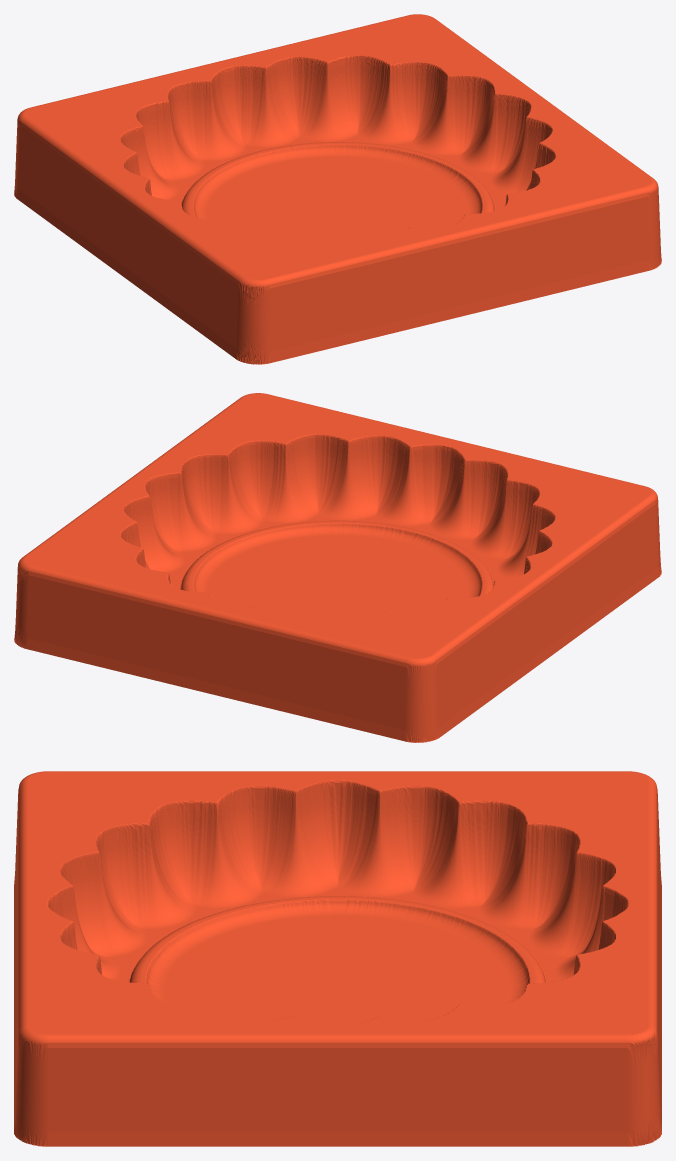
Rendered from mold.glb.
3 views of the same model, one above another, from view 1: azimuth 30°, elevation 25°; view 2: azimuth 150°, elevation 25°; view 3: azimuth 270°, elevation 25° (orthographic). The views are drawn at different scales.
Visible parts, largest first — view 1: geometry_0; view 2: geometry_0; view 3: geometry_0.
Boxes of the visible parts, left/top/right/bottom form: geometry_0: left=14, top=14, right=661, bottom=364; geometry_0: left=14, top=393, right=661, bottom=742; geometry_0: left=14, top=771, right=661, bottom=1146.
Size of the model in its own units: 0.1709 by 0.031 by 0.1709.
